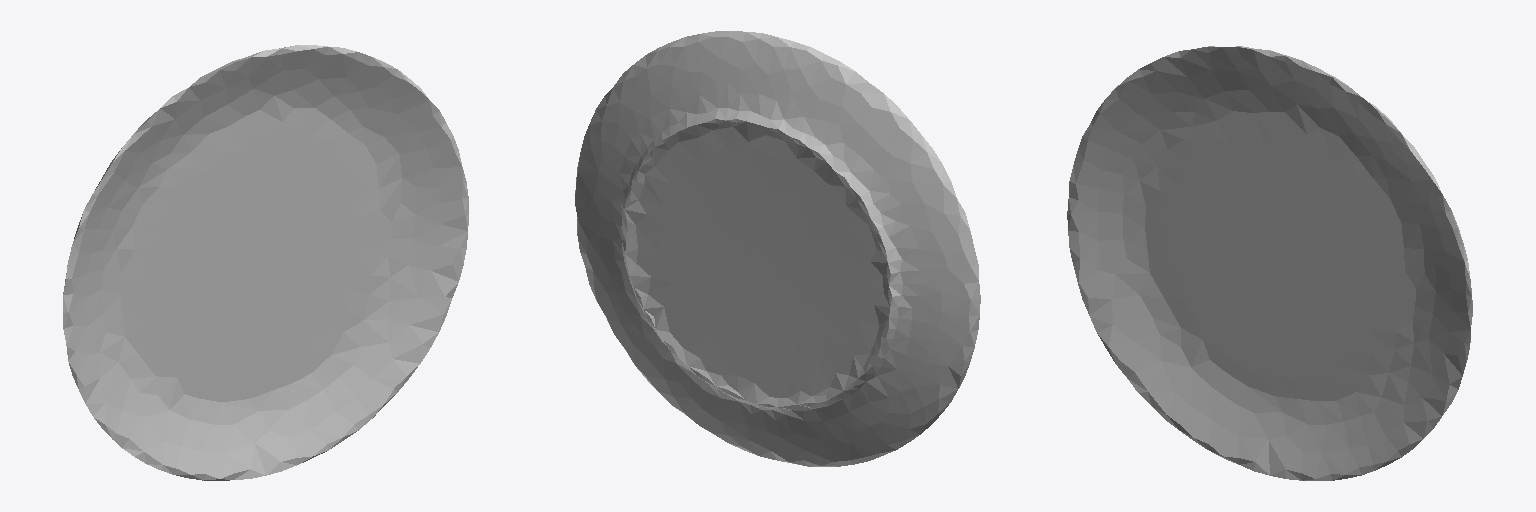
File: ikea_dinera_plate_8in_2000.obj
3 renders of one model, left to right at view 1: azimuth 30°, elevation 25°; view 2: azimuth 150°, elevation 25°; view 3: azimuth 330°, elevation 25°, orthographic.
Size of the model in its own units: 0.1963 by 0.1961 by 0.0183.